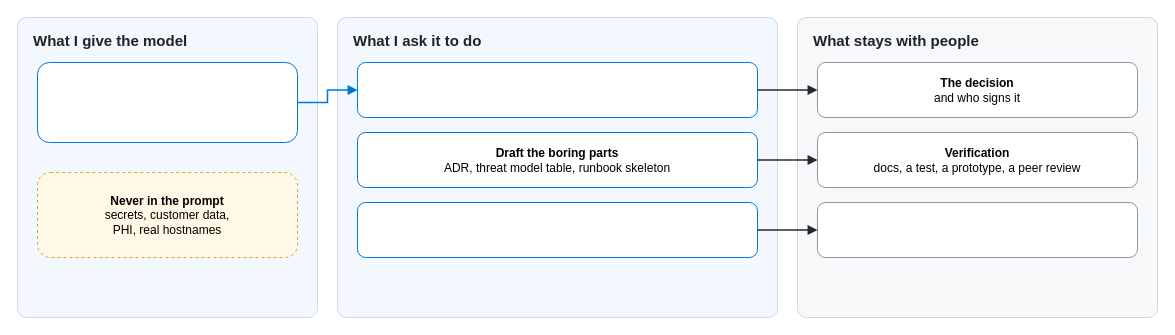
This 1175x335 diagram has some shape labels left out. Each missing label, with the centre of its shape:
Accountability "the AI suggested it" is not a reason: (x=977, y=230)
Challenge the design argue against my choice; list failure modes: (x=557, y=90)
Check my reasoning what did I assume? what would change the answer?: (x=557, y=230)
Context, written down requirements, constraints, current design, the options: (x=167, y=102)
